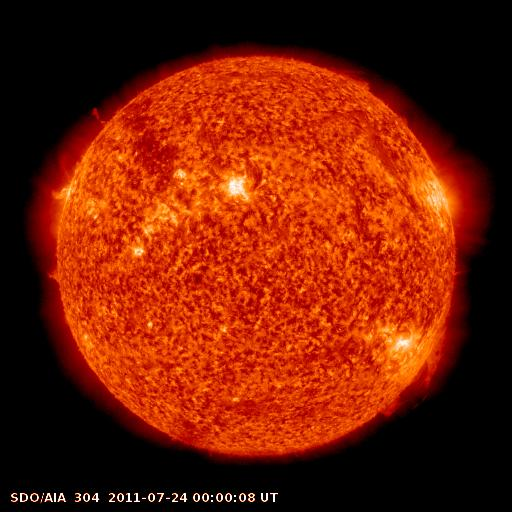prominence: (375, 317, 456, 426), (33, 150, 92, 208), (74, 99, 122, 133), (39, 256, 65, 294)
